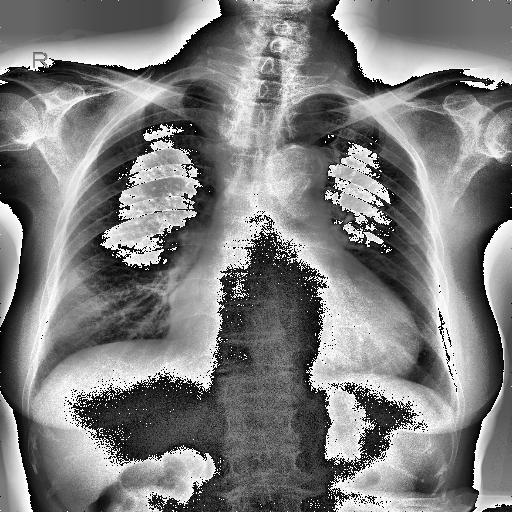0- Aortic enlargement: (266, 142, 328, 205), (264, 142, 326, 198), (262, 143, 326, 197)
3- Cardiomegaly: (170, 278, 420, 378), (164, 294, 423, 374), (167, 312, 419, 368)
